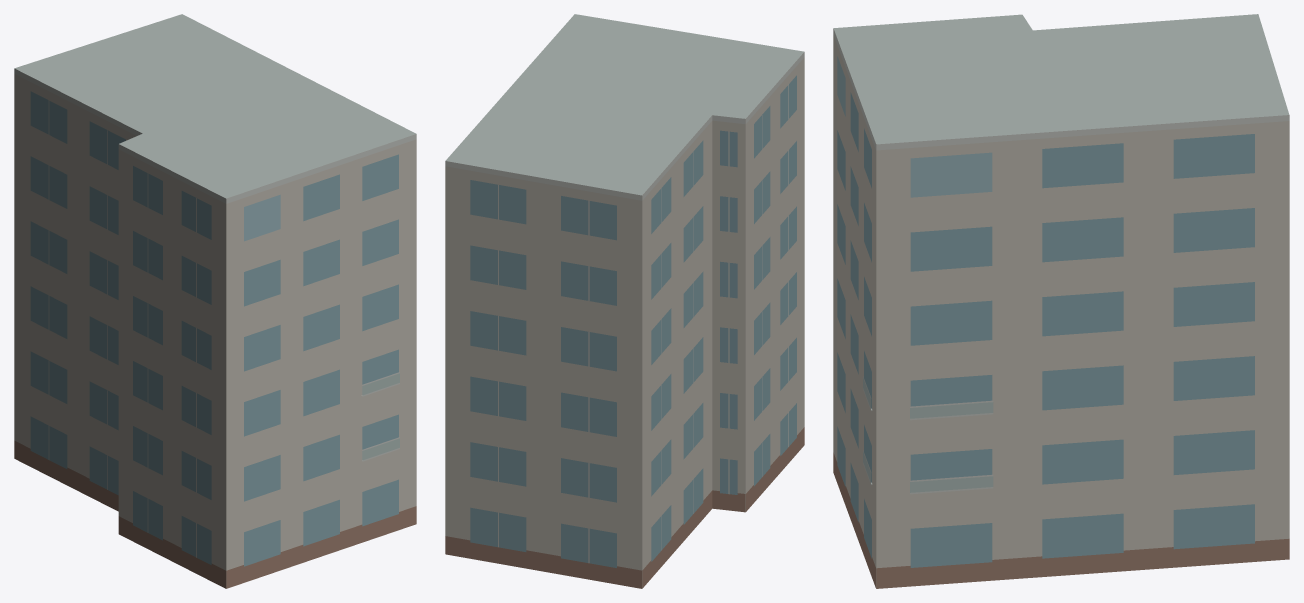
The model's file is survey-upis-32579582.glb.
3 renders of one model, left to right at view 1: azimuth 30°, elevation 25°; view 2: azimuth 150°, elevation 25°; view 3: azimuth 270°, elevation 25°, orthographic. The views are drawn at different scales.
Parts seen in each view (by area): view 1: survey-upis-32579582.tmp; view 2: survey-upis-32579582.tmp; view 3: survey-upis-32579582.tmp.
Boxes of the visible parts, left/top/right/bottom form: survey-upis-32579582.tmp: left=14, top=14, right=416, bottom=588; survey-upis-32579582.tmp: left=445, top=14, right=804, bottom=588; survey-upis-32579582.tmp: left=833, top=14, right=1289, bottom=588.
Size of the model in its own units: 11.28 by 17.9 by 16.66.
